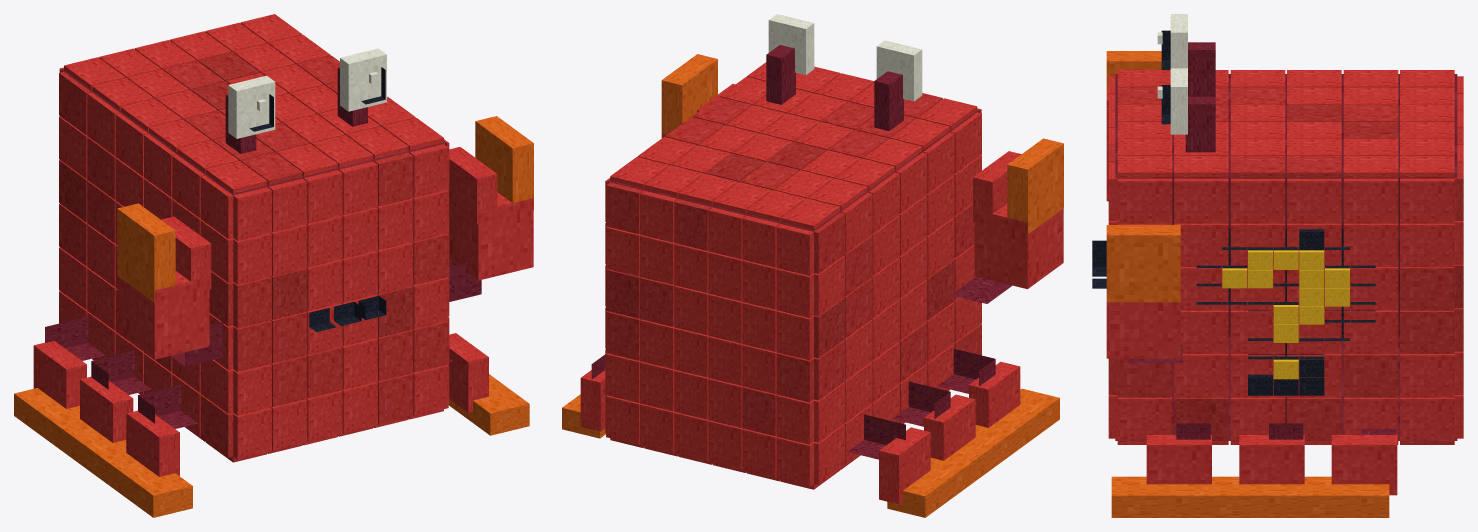
The model's file is LB_02_Crab.fbx.
3 renders of one model, left to right at view 1: azimuth 30°, elevation 25°; view 2: azimuth 150°, elevation 25°; view 3: azimuth 270°, elevation 25°, orthographic. The views are drawn at different scales.
Visible parts, largest first — view 1: Body_Crab, LegL_Crab, ClawL_Crab, ClawR_Crab, LegR_Crab; view 2: Body_Crab, LegL_Crab, ClawL_Crab, ClawR_Crab, LegR_Crab; view 3: Body_Crab, LegR_Crab, ClawR_Crab, ClawL_Crab.
Boxes of the visible parts, x1,y1,x2,y2 form: Body_Crab: (59, 14, 449, 462); LegL_Crab: (14, 316, 198, 517); ClawL_Crab: (117, 203, 233, 366); ClawR_Crab: (448, 116, 533, 301); LegR_Crab: (448, 333, 529, 435); Body_Crab: (605, 14, 981, 489); LegL_Crab: (847, 349, 1059, 517); ClawL_Crab: (951, 138, 1063, 303); ClawR_Crab: (661, 54, 735, 137); LegR_Crab: (562, 354, 605, 438); Body_Crab: (1092, 14, 1463, 444); LegR_Crab: (1111, 397, 1397, 517); ClawR_Crab: (1106, 225, 1182, 363); ClawL_Crab: (1106, 51, 1161, 201).
Bounding box in the file's own units: 400 × 380 × 340.
1 material, 1 textured.
